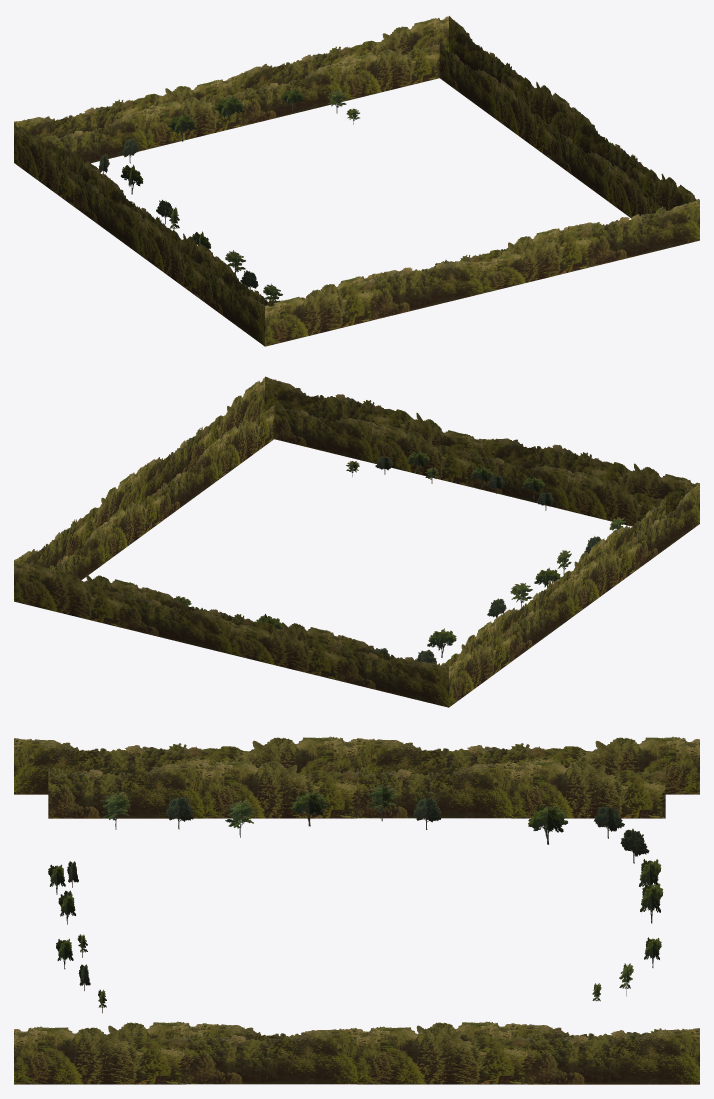
Rendered from st_021_tree_far.fbx.
3 renders of one model, top to bottom at view 1: azimuth 30°, elevation 25°; view 2: azimuth 150°, elevation 25°; view 3: azimuth 270°, elevation 25°, orthographic. The views are drawn at different scales.
Parts seen in each view (by area): view 1: Tree_far_out; view 2: Tree_far_out; view 3: Tree_far_out.
Part boxes in pixels (x1,y1,x2,y2): Tree_far_out: (14,16,699,346); Tree_far_out: (14,376,699,707); Tree_far_out: (14,736,699,1084).
Size of the model in its own units: 372 by 50.2 by 372.
